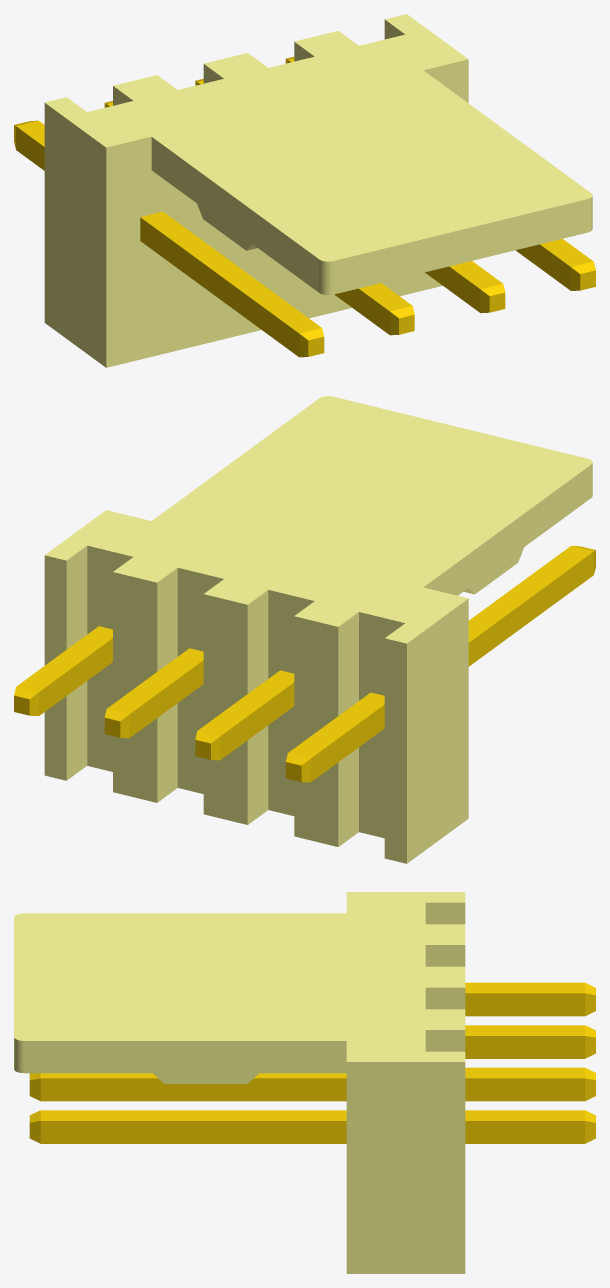
Rendered from DS1070-4 (WF-4 CONNFLY).obj.
3 renders of one model, top to bottom at view 1: azimuth 30°, elevation 25°; view 2: azimuth 150°, elevation 25°; view 3: azimuth 270°, elevation 25°, orthographic. The views are drawn at different scales.
Visible parts, largest first — view 1: DS1070-4_(WF-4_CONNFLY); view 2: DS1070-4_(WF-4_CONNFLY); view 3: DS1070-4_(WF-4_CONNFLY).
Part boxes in pixels (left/top/right/bottom): DS1070-4_(WF-4_CONNFLY): left=14, top=14, right=595, bottom=367; DS1070-4_(WF-4_CONNFLY): left=14, top=396, right=595, bottom=863; DS1070-4_(WF-4_CONNFLY): left=14, top=892, right=595, bottom=1273.
Size of the model in its own units: 0.0196 by 0.0114 by 0.0284.
